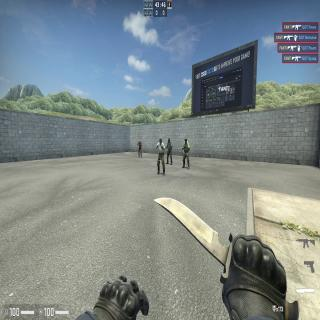CT-Body: (182, 137, 190, 168), (167, 138, 172, 165)
CT-Head: (185, 138, 188, 144), (168, 138, 170, 143)
T-Body: (156, 138, 165, 176), (138, 140, 142, 157)
T-Head: (159, 138, 162, 144), (139, 140, 140, 143)
